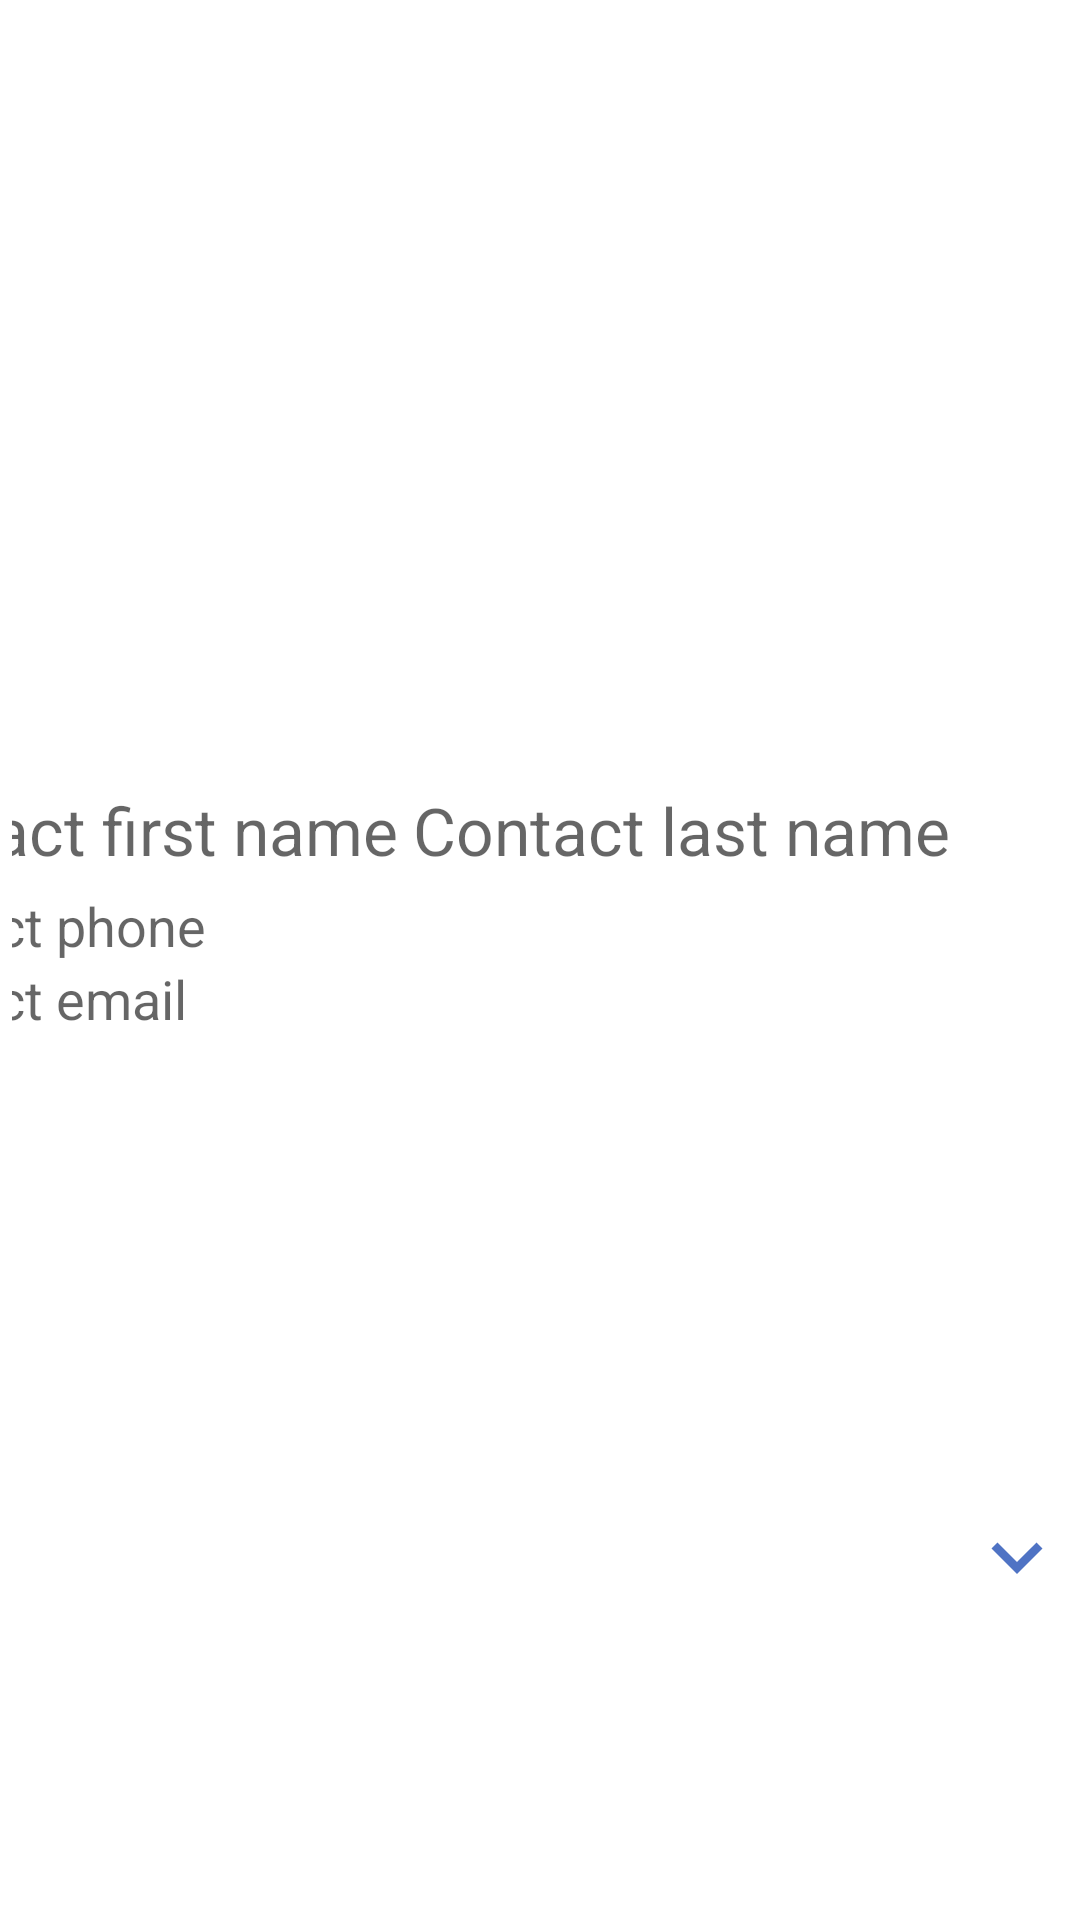

Point at icon controls on the screen. Image size 1080*1920, points as [x,y].
expand more: [1017,1558]
